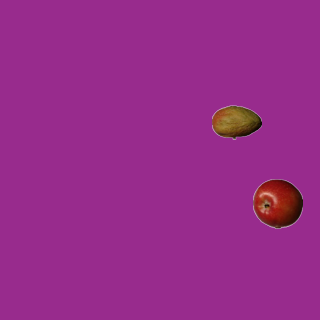Apple Braeburn: (252, 178, 302, 228)
Papaya: (211, 97, 261, 147)
